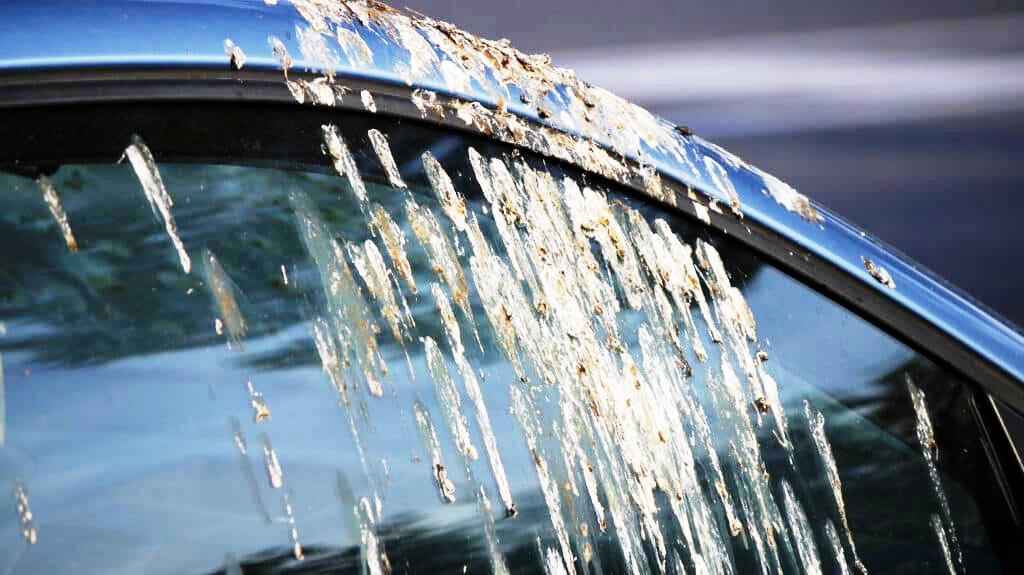Bird Poop: (271, 0, 827, 574), (233, 377, 311, 563), (801, 400, 870, 574), (905, 377, 960, 574), (115, 135, 192, 275), (695, 147, 822, 218), (201, 247, 248, 350), (37, 173, 79, 253), (15, 481, 38, 544), (859, 254, 896, 289), (224, 39, 247, 85)
